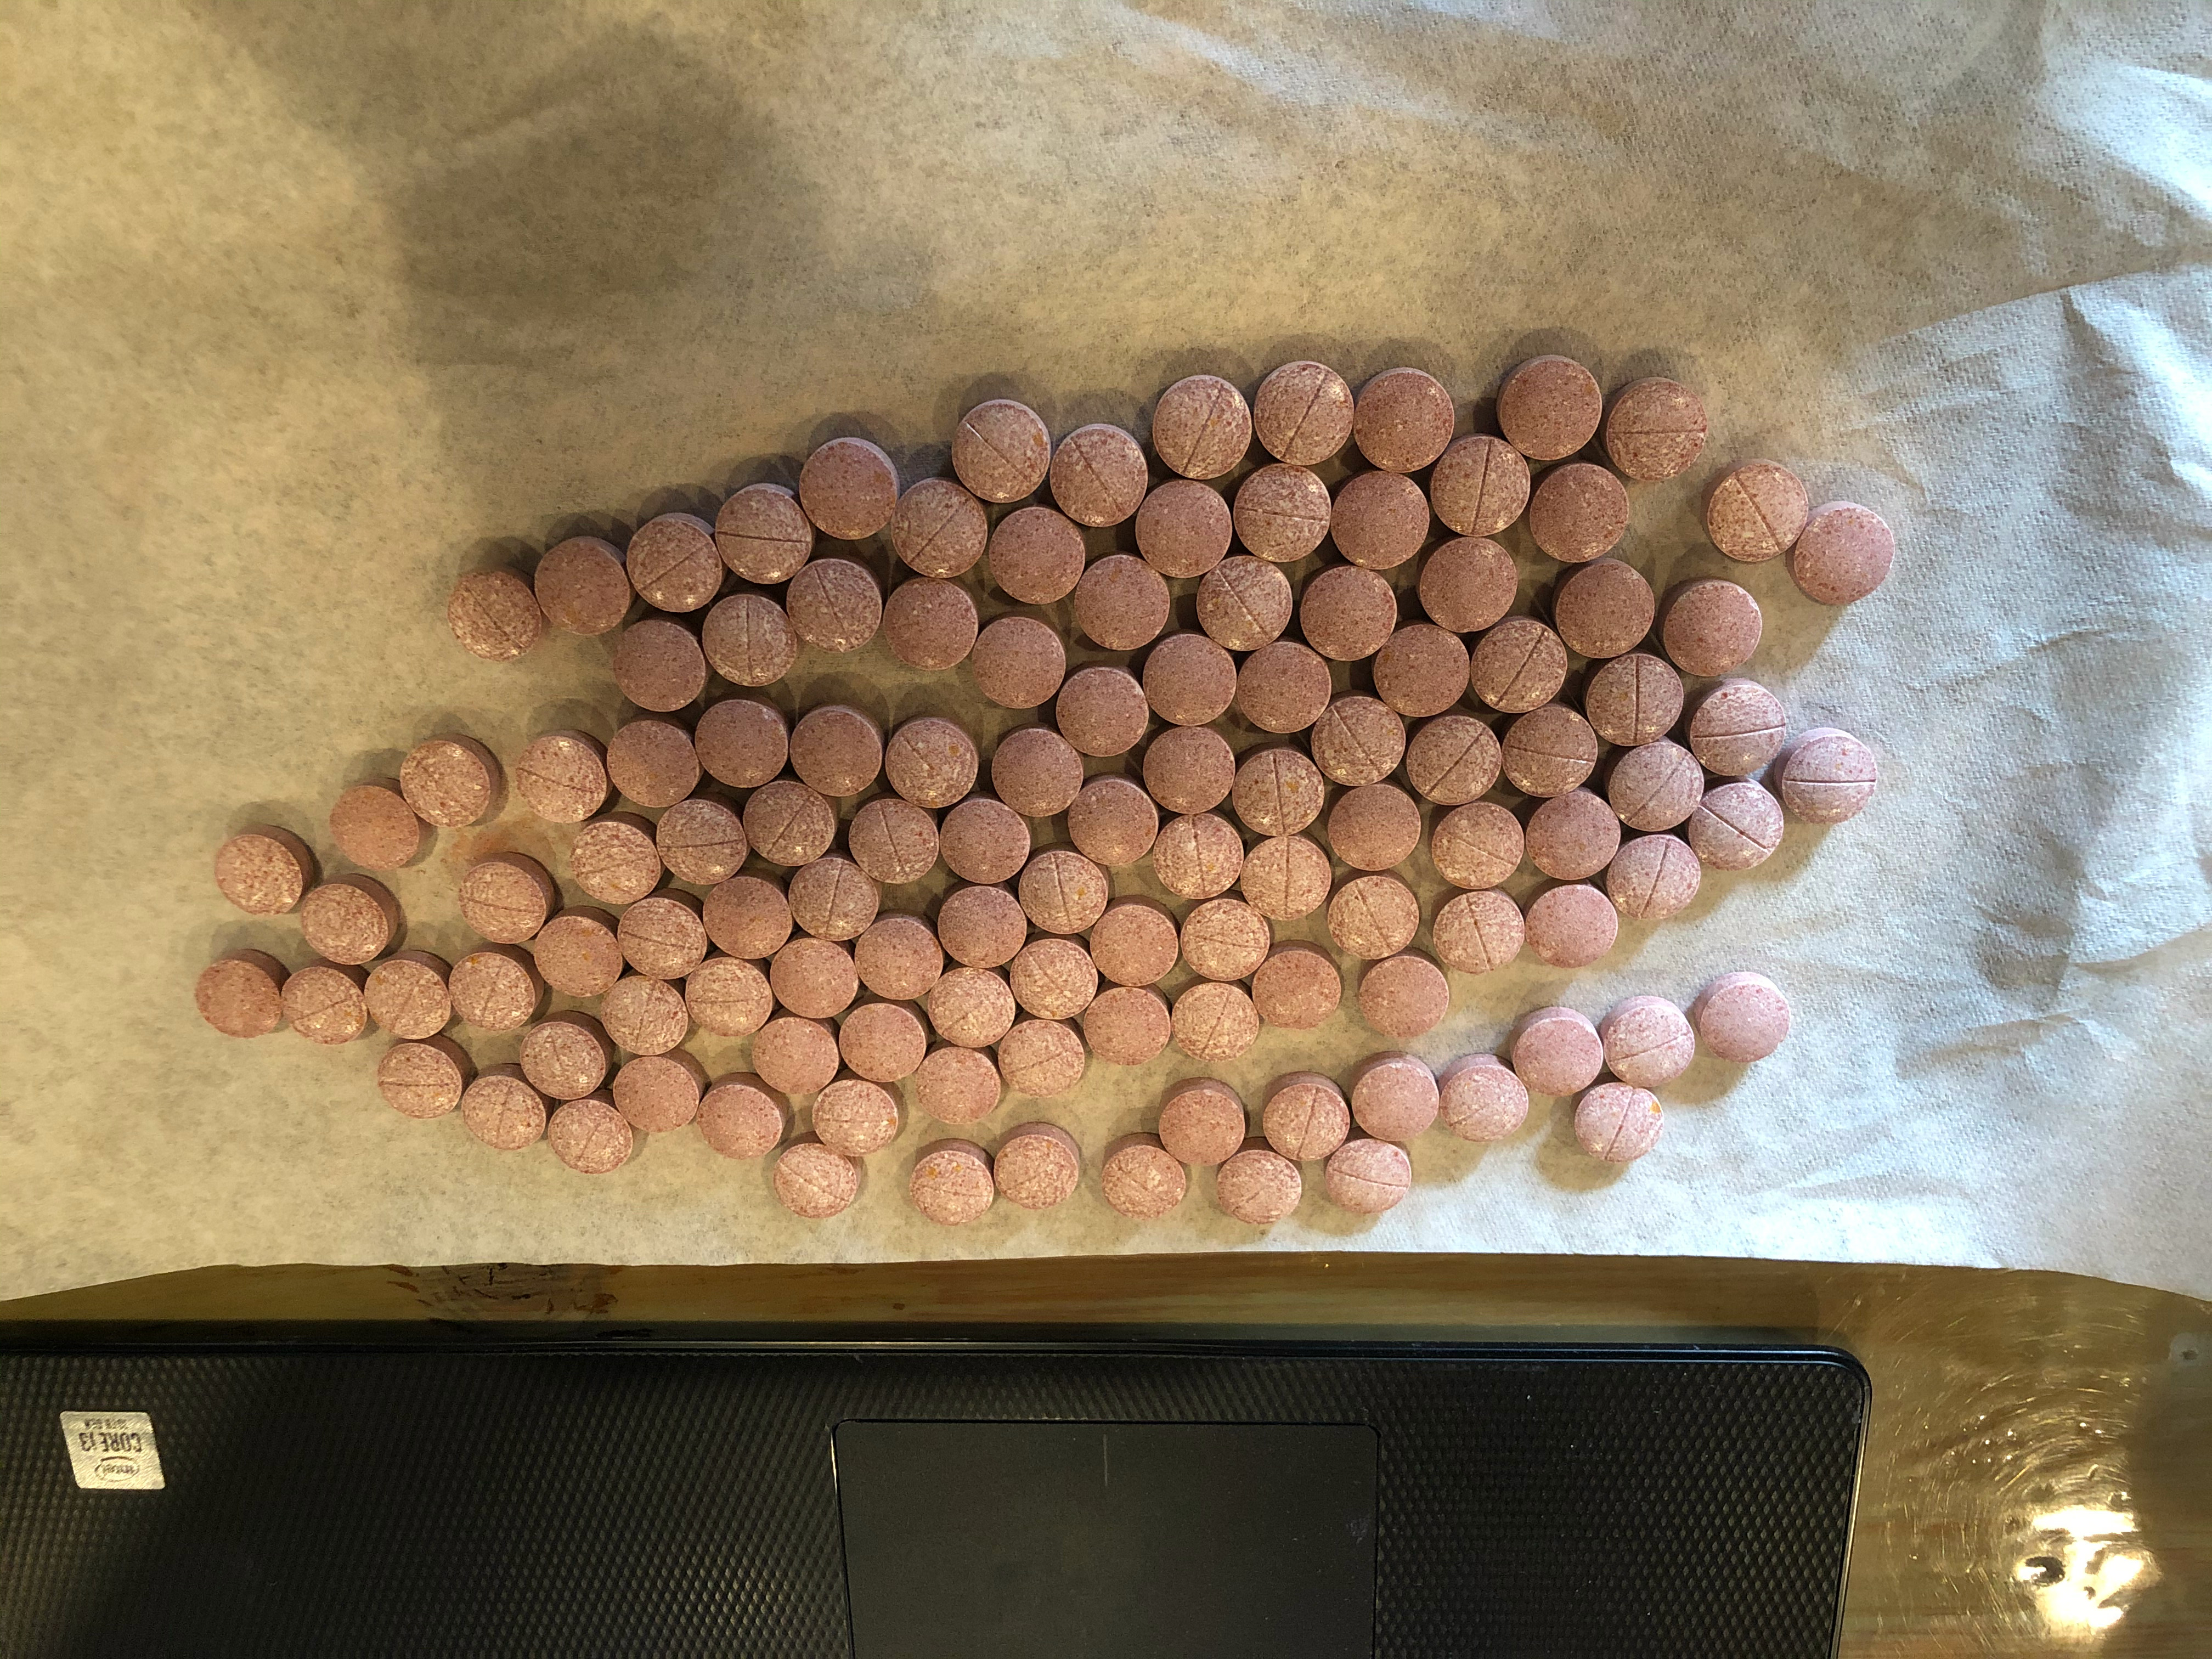tablet: (1791, 498, 1900, 617), (1493, 352, 1604, 467), (1146, 368, 1256, 484), (1601, 375, 1709, 488), (1702, 455, 1808, 570), (796, 432, 902, 545), (946, 396, 1054, 505), (1324, 465, 1432, 573), (622, 507, 728, 617), (1049, 418, 1151, 532), (1353, 364, 1456, 477), (1416, 532, 1526, 636), (533, 533, 639, 640), (1298, 559, 1400, 669), (712, 481, 817, 587), (1251, 357, 1355, 464), (1777, 727, 1883, 831), (1069, 549, 1172, 657), (1430, 432, 1533, 540), (1527, 460, 1630, 568), (1660, 575, 1763, 683), (1684, 676, 1789, 781), (395, 732, 502, 835), (444, 561, 550, 664), (1230, 460, 1332, 566), (1552, 558, 1656, 660), (1371, 619, 1472, 725), (1580, 647, 1686, 748), (890, 472, 989, 580), (294, 870, 404, 967), (878, 711, 981, 814), (1136, 477, 1235, 584), (324, 781, 434, 877), (214, 821, 317, 922), (698, 591, 801, 692), (880, 573, 981, 676), (988, 502, 1089, 605), (1402, 711, 1505, 812), (688, 694, 792, 793), (1604, 739, 1709, 838), (968, 612, 1069, 713), (1195, 554, 1296, 655), (1599, 993, 1700, 1094), (1467, 615, 1568, 716), (1688, 775, 1789, 877), (512, 725, 615, 824), (784, 554, 883, 657), (784, 699, 883, 802), (1341, 1047, 1440, 1148), (1231, 636, 1332, 735), (1325, 866, 1425, 967), (1693, 969, 1792, 1070), (1498, 704, 1599, 803), (608, 617, 711, 714), (1505, 1004, 1608, 1101), (1139, 631, 1242, 728), (458, 850, 557, 950), (1054, 664, 1153, 763), (1151, 1073, 1252, 1171), (1310, 692, 1411, 789), (1426, 800, 1533, 892), (934, 791, 1033, 889), (192, 945, 293, 1040), (617, 887, 712, 988), (738, 779, 840, 875), (1017, 840, 1113, 941), (361, 948, 463, 1042), (784, 852, 883, 948), (1087, 894, 1188, 988), (1521, 788, 1622, 882), (446, 941, 549, 1033), (535, 906, 632, 1002), (845, 796, 942, 892), (566, 814, 665, 908), (988, 725, 1087, 819), (1604, 833, 1705, 925), (651, 798, 754, 889), (604, 1049, 709, 1138), (1231, 746, 1327, 842), (698, 871, 796, 965), (850, 913, 948, 1007), (519, 1009, 618, 1101), (1353, 951, 1453, 1044), (462, 1060, 552, 1161), (1233, 833, 1334, 924), (1428, 887, 1529, 978), (606, 716, 702, 810), (993, 1119, 1087, 1215), (1435, 1053, 1531, 1147), (1066, 774, 1163, 866), (277, 960, 376, 1051), (1151, 810, 1247, 903), (923, 964, 1021, 1054), (1176, 894, 1273, 985), (1141, 725, 1238, 816), (543, 1093, 644, 1180), (1207, 1136, 1308, 1223), (1320, 1131, 1421, 1218), (1522, 882, 1623, 969), (1099, 1129, 1191, 1223), (1169, 978, 1264, 1068), (909, 1042, 1007, 1131), (1256, 1072, 1353, 1161), (1252, 939, 1345, 1032), (768, 934, 862, 1025), (1329, 782, 1425, 871), (934, 885, 1031, 972), (697, 1070, 789, 1161), (773, 1131, 866, 1222), (683, 951, 777, 1040), (906, 1138, 1000, 1227), (1078, 983, 1172, 1072), (834, 999, 930, 1086), (995, 1016, 1090, 1103), (747, 1014, 846, 1098), (1008, 934, 1099, 1025), (376, 1035, 472, 1121), (597, 972, 693, 1058), (1573, 1080, 1665, 1166), (808, 1075, 906, 1155)
